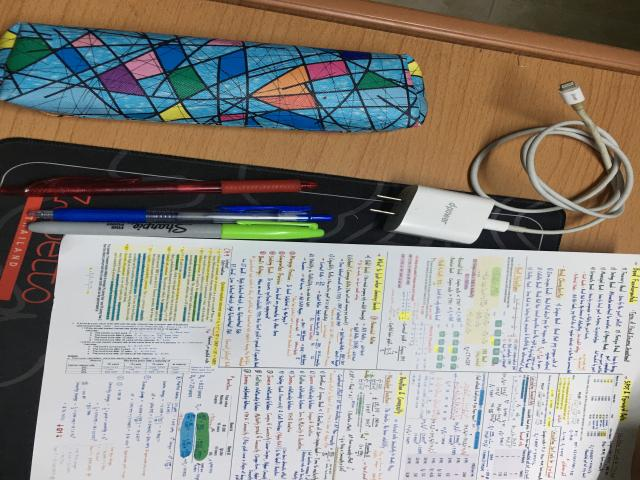Pen: (0, 177, 318, 197), (28, 221, 325, 239), (30, 206, 332, 223)
paper: (30, 235, 638, 480)
wire: (365, 82, 633, 246)
